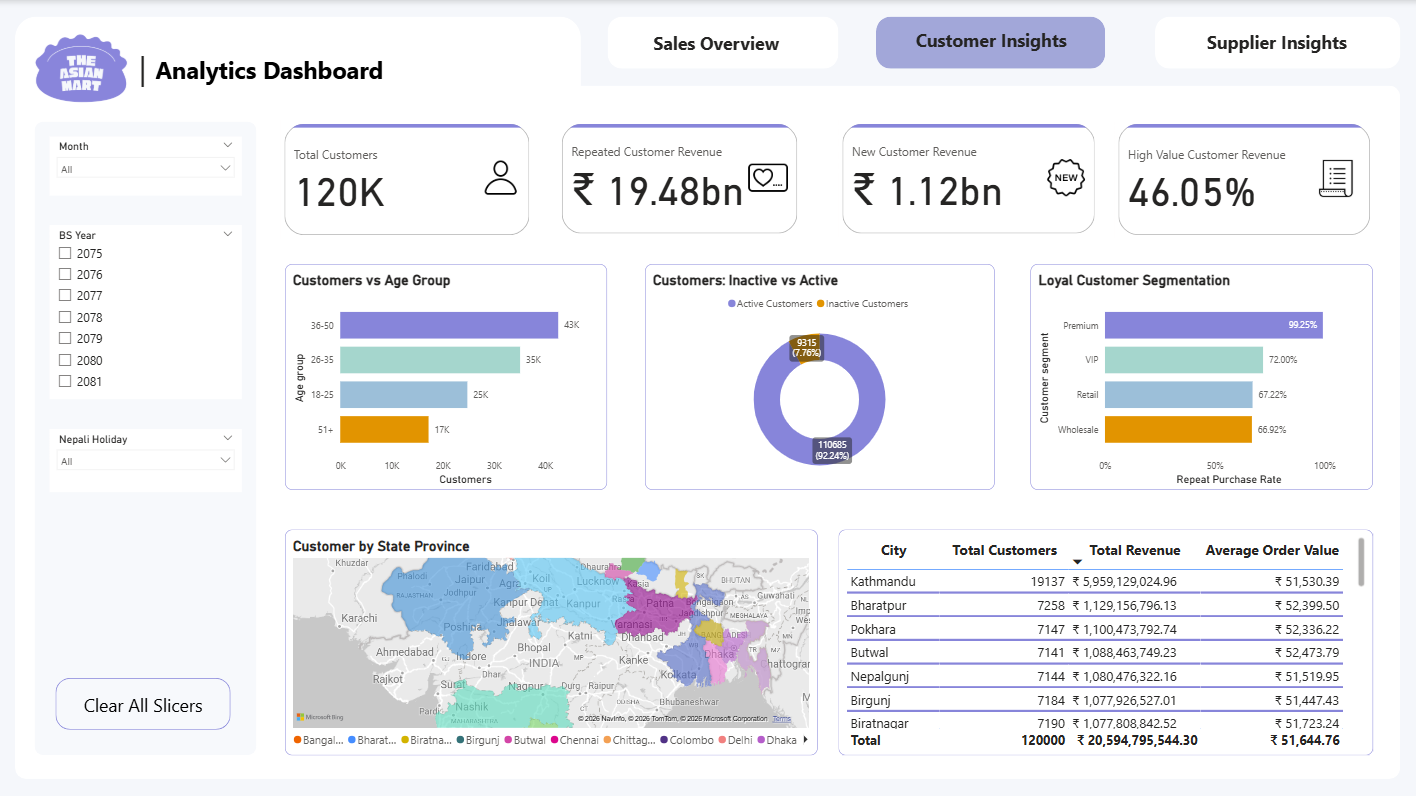

The dashboard page shown, as its layout file describes it:
{"tool":"powerbi","page":{"name":"Customers","canvas":[1920,1080],"ordinal":1},"visuals":[{"type":"shape","box":[25,115,1872.5,937.5],"z":0},{"type":"actionButton","box":[824.4,22,312.2,70.7],"z":1000},{"type":"actionButton","box":[1187.8,22,309.8,70.7],"z":2000},{"type":"actionButton","box":[1565.9,22,331.7,70.7],"z":3000},{"type":"shape","box":[25,22.5,765,115],"z":5000},{"type":"image","box":[40.6,17.5,144.4,145],"z":6000},{"type":"textbox","box":[187.1,57.1,21.4,71.4],"z":7000},{"type":"textbox","box":[208.9,67.8,329.4,61.1],"z":8000},{"type":"textbox","box":[882.9,36.6,202.4,48.8],"z":9000},{"type":"textbox","box":[1236.6,31.7,226.8,53.7],"z":11000},{"type":"textbox","box":[1629.3,34.1,209.8,43.9],"z":12000},{"type":"shape","box":[50,163.3,300,856.7],"z":13000},{"type":"cardVisual","fields":{"Data":["customers.Total Customers"]},"box":[383.8,162.8,342,160.5],"z":14000},{"type":"cardVisual","fields":{"Data":["customers.Repeated Customer Revenue"]},"box":[758.4,162.8,328,158.2],"z":15000},{"type":"cardVisual","fields":{"Data":["customers.New Customer Revenue"]},"box":[1137.6,162.8,351.3,158.2],"z":16000},{"type":"cardVisual","fields":{"Data":["customers.High Value Customer Revenue %"]},"box":[1510,162.5,350,160],"z":17000},{"type":"actionButton","box":[80,916.7,236.7,70],"z":18000},{"type":"clusteredBarChart","title":"Customers vs Age Group","fields":{"Y":["customers.Total Customers"],"Category":["customers.age_group"]},"box":[390,357.5,435,305],"z":19000},{"type":"donutChart","title":"Customers: Inactive vs Active ","fields":{"Y":["order_items.Active Customers","order_items.Inactive Customers"]},"box":[875,357.5,472.5,305],"z":20000},{"type":"slicer","fields":{"Values":["dates.month_name"]},"box":[70,184,260,80],"z":21000},{"type":"clusteredBarChart","title":"Loyal Customer Segmentation","fields":{"Category":["customers.customer_segment"],"Y":["customers.Repeat Purchase Rate"]},"box":[1397.5,357.5,462.5,305],"z":22000},{"type":"filledMap","title":"Customer by State Province","fields":{"Category":["customers.state_province"],"Series":["customers.city"]},"box":[390,715,720,305],"z":23000},{"type":"tableEx","title":"Customers vs Age Group","fields":{"Values":["customers.city","customers.Total Customers","order_items.Total Revenue","order_items.Average Order Value"]},"box":[1137.5,715,722.5,305],"z":24000},{"type":"slicer","fields":{"Values":["dates.BS Year"]},"box":[70,305,260,235],"z":25000},{"type":"slicer","fields":{"Values":["dates.is_np_holiday"]},"box":[70,580,260,85],"z":26000}]}

Visuals, with their boxes in screenshot pixels (x1, y1, x2, y2), scaled from the page's 1920x1080 canvas onto the 1416x796 screenshot:
shape: BBox(18, 85, 1399, 776)
actionButton: BBox(608, 16, 838, 68)
actionButton: BBox(876, 16, 1104, 68)
actionButton: BBox(1155, 16, 1399, 68)
shape: BBox(18, 17, 583, 101)
image: BBox(30, 13, 136, 120)
textbox: BBox(138, 42, 154, 95)
textbox: BBox(154, 50, 397, 95)
textbox: BBox(651, 27, 800, 63)
textbox: BBox(912, 23, 1079, 63)
textbox: BBox(1202, 25, 1356, 57)
shape: BBox(37, 120, 258, 752)
cardVisual - customers.Total Customers: BBox(283, 120, 535, 238)
cardVisual - customers.Repeated Customer Revenue: BBox(559, 120, 801, 237)
cardVisual - customers.New Customer Revenue: BBox(839, 120, 1098, 237)
cardVisual - customers.High Value Customer Revenue %: BBox(1114, 120, 1372, 238)
actionButton: BBox(59, 676, 234, 727)
"Customers vs Age Group" clusteredBarChart: BBox(288, 263, 608, 488)
"Customers: Inactive vs Active " donutChart: BBox(645, 263, 994, 488)
slicer - dates.month_name: BBox(52, 136, 243, 195)
"Loyal Customer Segmentation" clusteredBarChart: BBox(1031, 263, 1372, 488)
"Customer by State Province" filledMap: BBox(288, 527, 819, 752)
"Customers vs Age Group" tableEx: BBox(839, 527, 1372, 752)
slicer - dates.BS Year: BBox(52, 225, 243, 398)
slicer - dates.is_np_holiday: BBox(52, 427, 243, 490)
